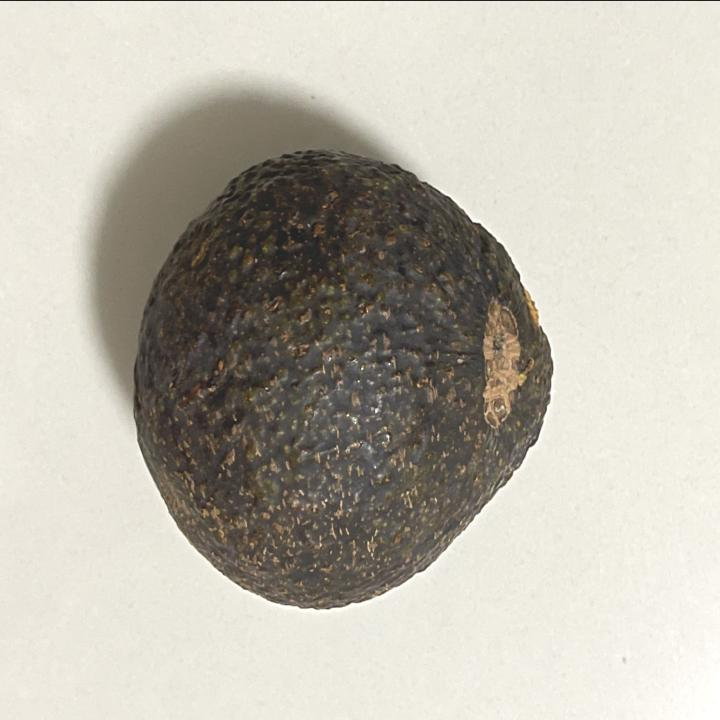Level2: (128, 140, 561, 620)
